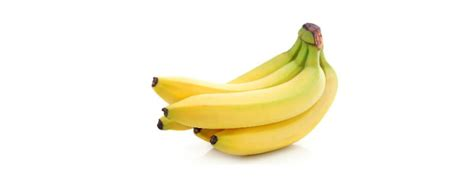banana: (209, 63, 337, 157), (161, 63, 326, 133), (151, 58, 306, 111)
